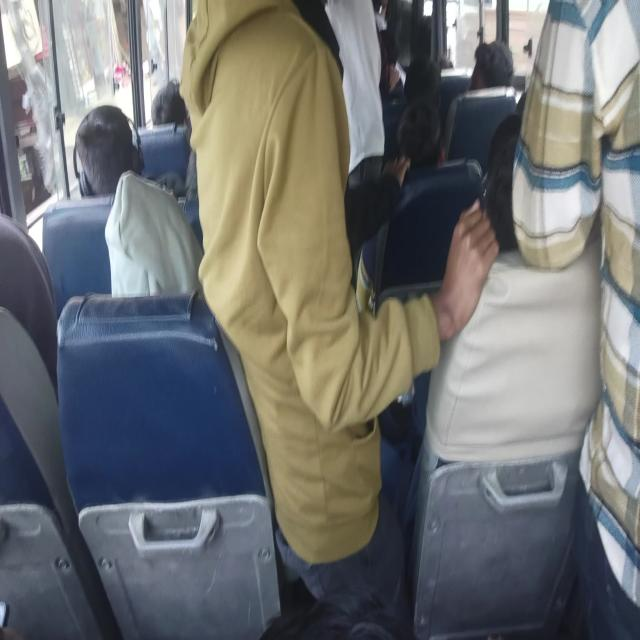person: (76, 159, 282, 640), (517, 0, 640, 604), (356, 79, 447, 324), (180, 0, 290, 114), (0, 211, 59, 399), (442, 43, 520, 168), (72, 113, 142, 192), (394, 94, 441, 171), (471, 40, 515, 92), (151, 79, 186, 128), (390, 0, 414, 67), (408, 13, 436, 68), (152, 170, 187, 200)
